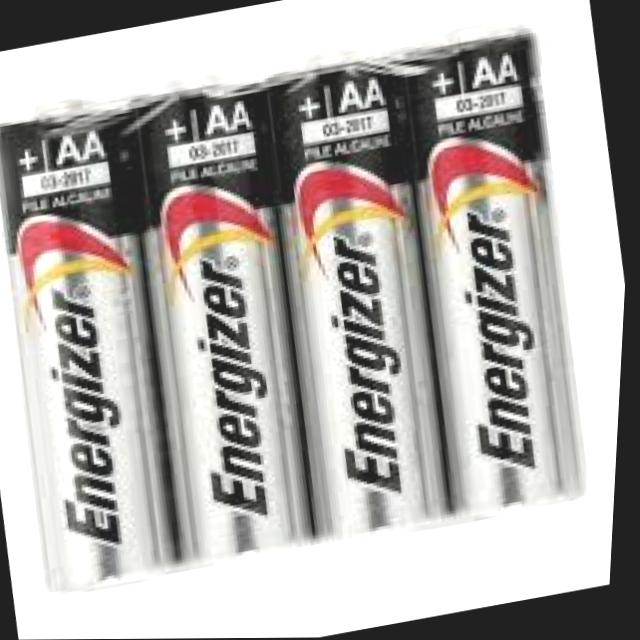B3: (0, 0, 640, 624)
